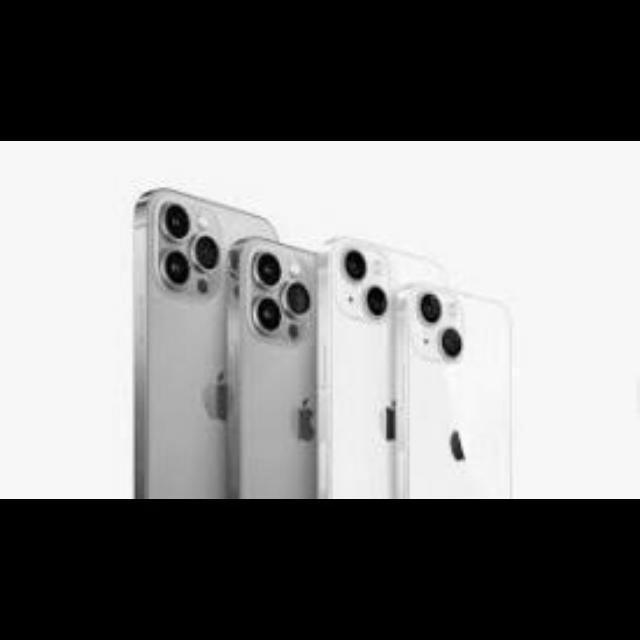fake: (314, 214, 520, 500), (116, 172, 292, 499)
